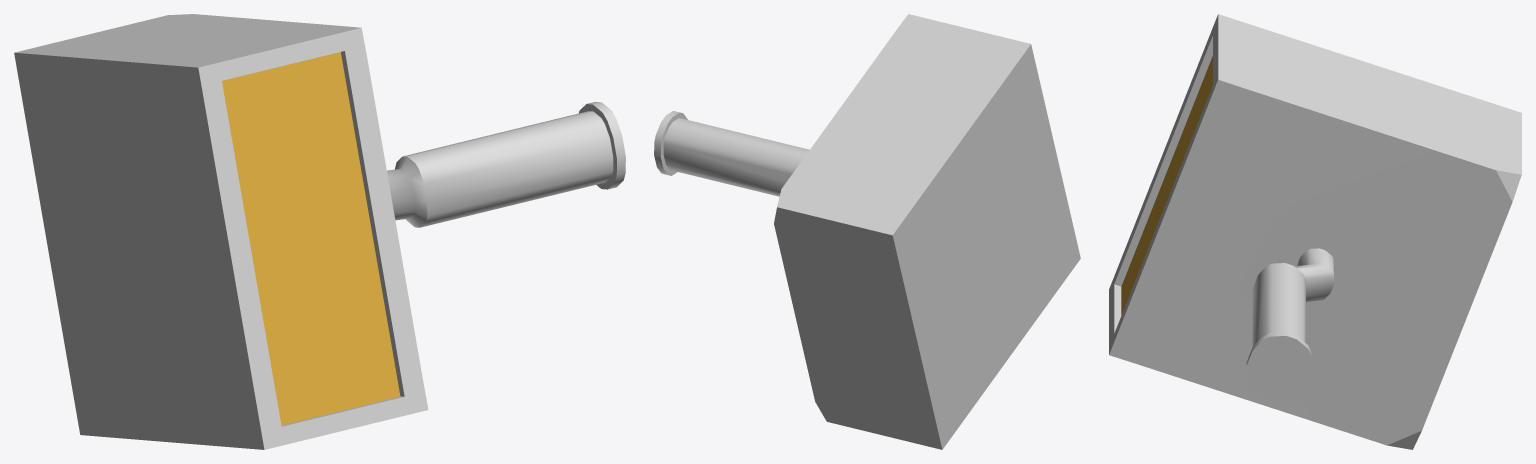
Rendered from Dynamo.fbx.
3 renders of one model, left to right at view 1: azimuth 30°, elevation 25°; view 2: azimuth 150°, elevation 25°; view 3: azimuth 270°, elevation 25°, orthographic. The views are drawn at different scales.
Parts seen in each view (by area): view 1: Cube.009, Cube.002; view 2: Cube.009, Cube.002; view 3: Cube.009, Cube.002.
Boxes of the visible parts, x1,y1,x2,y2 form: Cube.009: (14,14,428,449); Cube.002: (387,102,625,227); Cube.009: (774,14,1080,449); Cube.002: (654,111,809,196); Cube.009: (1109,14,1521,449); Cube.002: (1246,248,1334,400).
Size of the model in its own units: 0.996 by 0.9712 by 0.9712.
